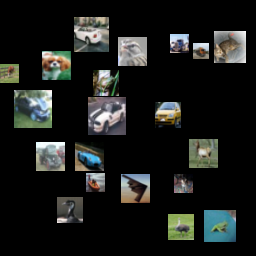airplane: (121, 174, 150, 203)
automobile: (14, 90, 52, 128), (88, 97, 126, 135), (74, 17, 109, 52), (75, 142, 104, 171), (155, 102, 181, 128)
bird: (118, 37, 147, 66), (168, 214, 194, 240), (57, 197, 83, 223)
cat: (214, 31, 246, 63), (174, 174, 193, 193)
deer: (189, 139, 218, 168)
dog: (42, 51, 71, 80)
frog: (204, 210, 236, 242), (93, 70, 119, 96)
ship: (86, 173, 105, 192)
